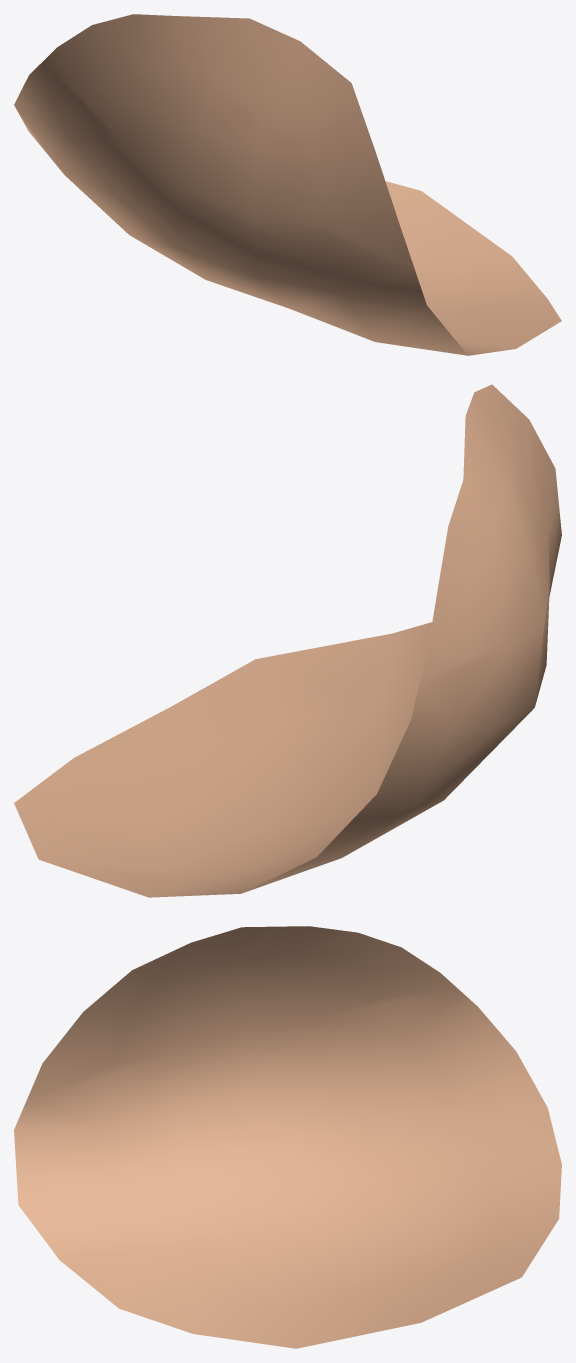
File: hallucial-eminence-l.glb
The picture shows the model from 3 angles, top to bottom: view 1: azimuth 30°, elevation 25°; view 2: azimuth 150°, elevation 25°; view 3: azimuth 270°, elevation 25°; orthographic projection. The views are drawn at different scales.
Visible parts, largest first — view 1: Hallucial eminence.l; view 2: Hallucial eminence.l; view 3: Hallucial eminence.l.
Boxes of the visible parts, <box> form: Hallucial eminence.l: <box>14,14,561,355</box>; Hallucial eminence.l: <box>14,384,561,897</box>; Hallucial eminence.l: <box>14,926,561,1348</box>.
Bounding box in the file's own units: 0.0369 × 0.0307 × 0.0517.
